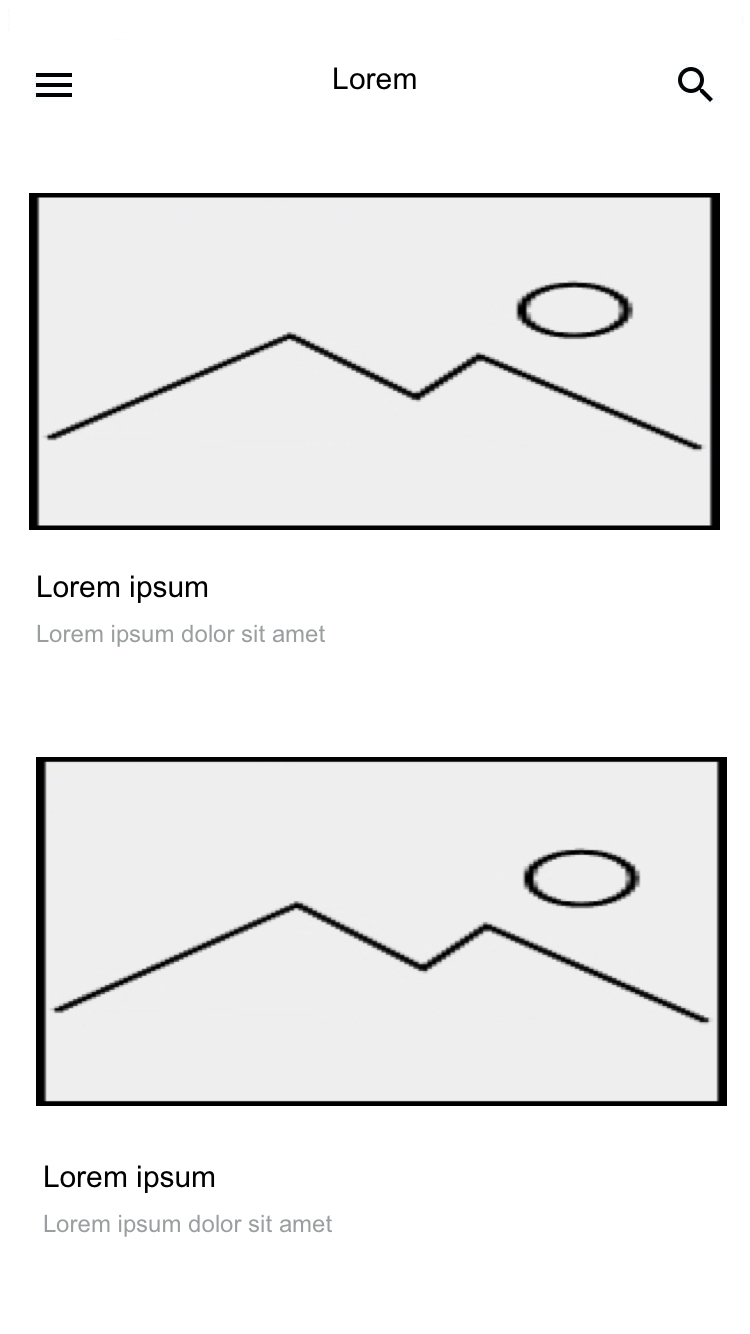Icon: (678, 67, 714, 104), (36, 73, 74, 99)
Image: (36, 757, 728, 1107), (30, 193, 721, 531)
Text: (44, 1214, 333, 1238), (38, 624, 326, 648), (38, 575, 209, 605), (45, 1164, 216, 1194), (334, 67, 417, 91)
